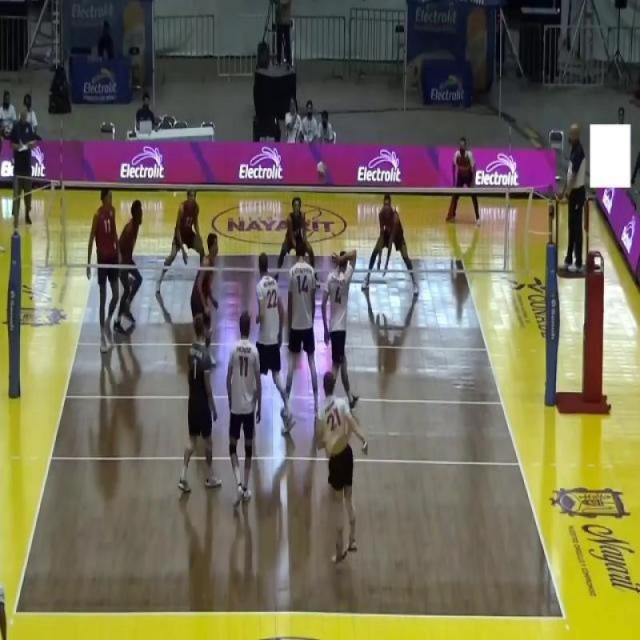volleyball: (316, 160, 327, 180)
